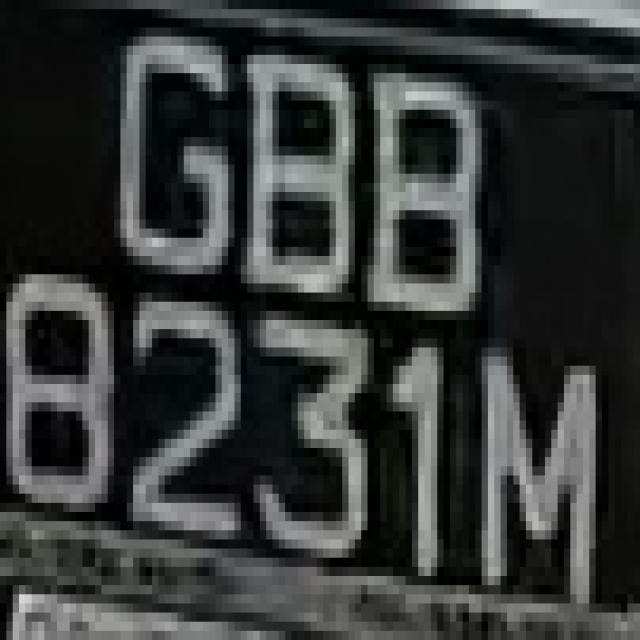1: (393, 329, 481, 594)
2: (108, 284, 253, 594)
3: (235, 274, 386, 576)
8: (0, 229, 108, 576)
B: (355, 36, 488, 348), (241, 36, 367, 348)
G: (82, 0, 248, 302)
M: (482, 320, 621, 603)
